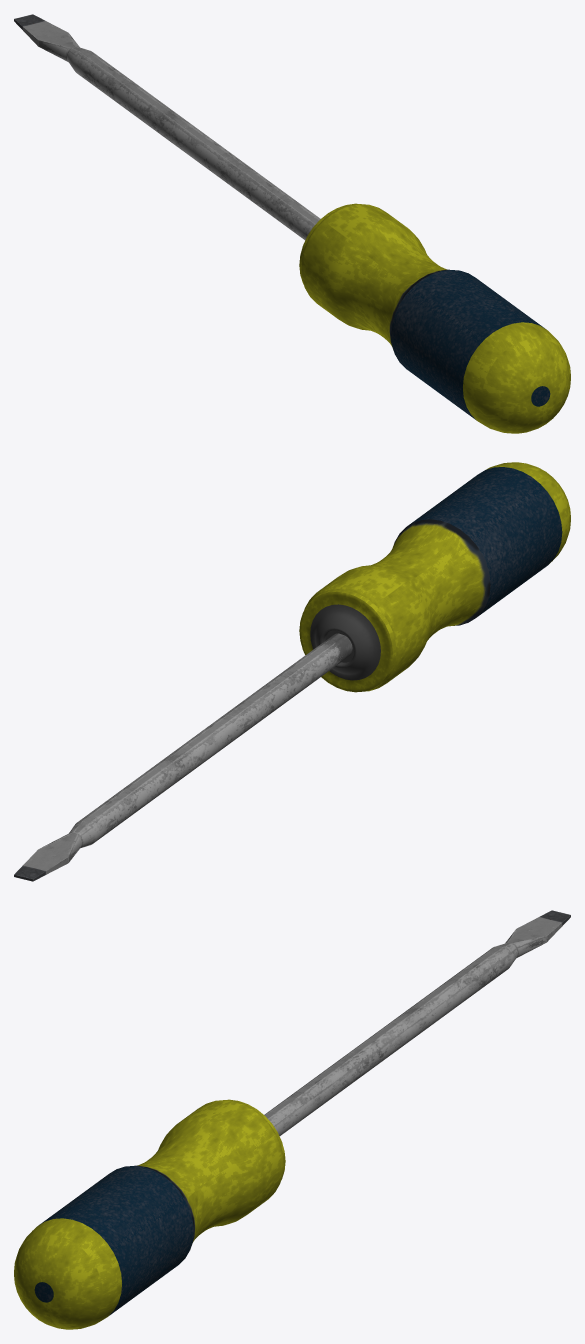
Rendered from screwdriver_2.glb.
3 views of the same model, one above another, from view 1: azimuth 30°, elevation 25°; view 2: azimuth 150°, elevation 25°; view 3: azimuth 330°, elevation 25° (orthographic).
Visible parts, largest first — view 1: scredriver_0; view 2: scredriver_0; view 3: scredriver_0.
Boxes of the visible parts, x1=… form: scredriver_0: x1=14, y1=14, x2=570, y2=433; scredriver_0: x1=14, y1=462, x2=570, y2=881; scredriver_0: x1=14, y1=910, x2=570, y2=1329.
Bounding box in the file's own units: 1.33 × 1.33 × 11.98.
5 materials, 5 textured.
